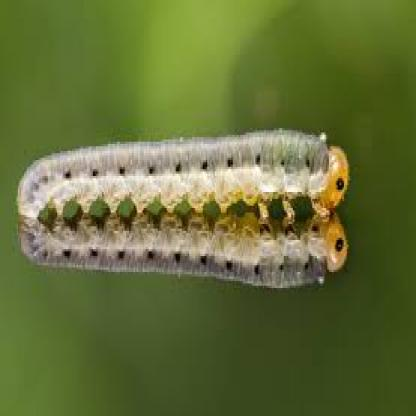sawfly: (17, 124, 353, 218), (14, 216, 360, 288)
